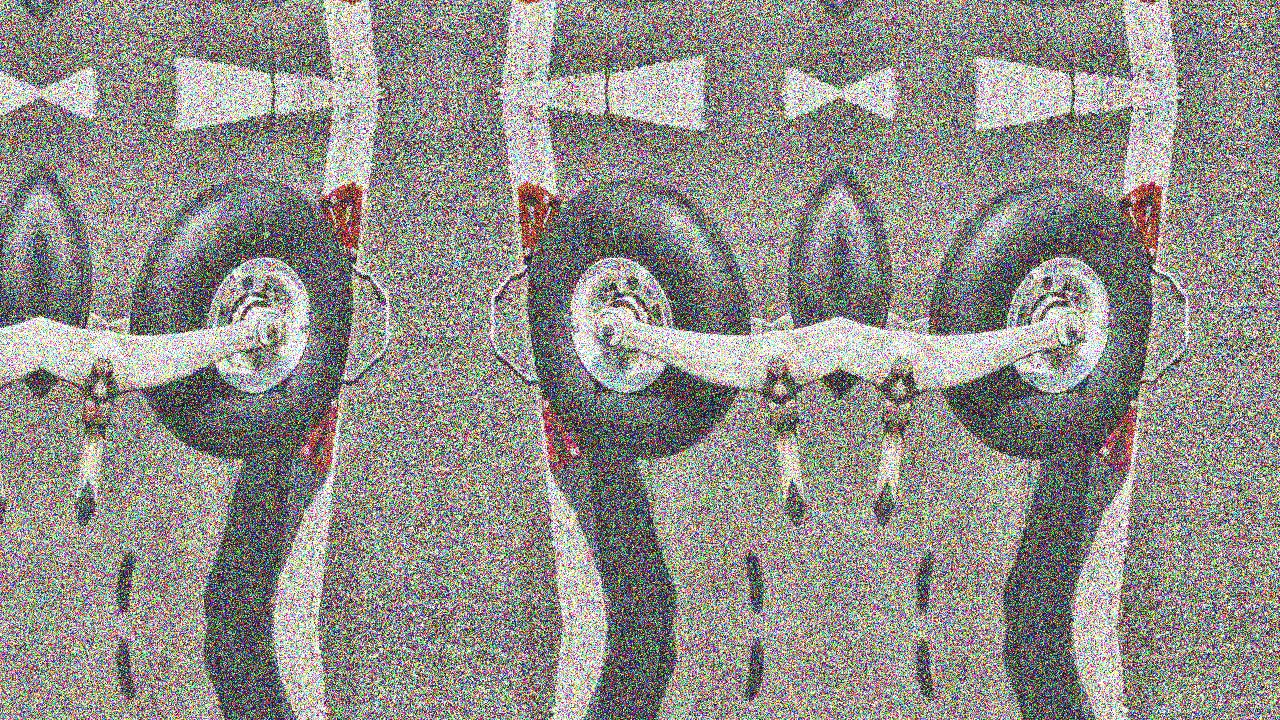chock: (311, 175, 366, 260), (514, 175, 569, 260), (1111, 175, 1166, 260), (289, 392, 340, 475), (540, 392, 591, 475), (1089, 392, 1140, 475), (311, 0, 366, 12), (514, 0, 569, 12), (1111, 0, 1166, 12)
wheel: (115, 165, 362, 463), (518, 165, 765, 463), (915, 165, 1162, 463), (115, 0, 362, 21), (518, 0, 765, 21), (915, 0, 1162, 21)
